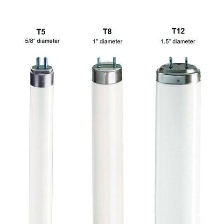light_bulb: (146, 50, 205, 224), (83, 50, 132, 224), (26, 52, 55, 224)
